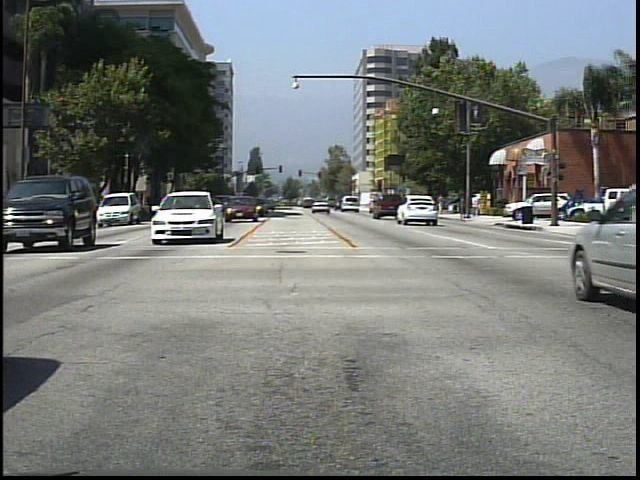person: (471, 191, 484, 218), (437, 192, 448, 218)
